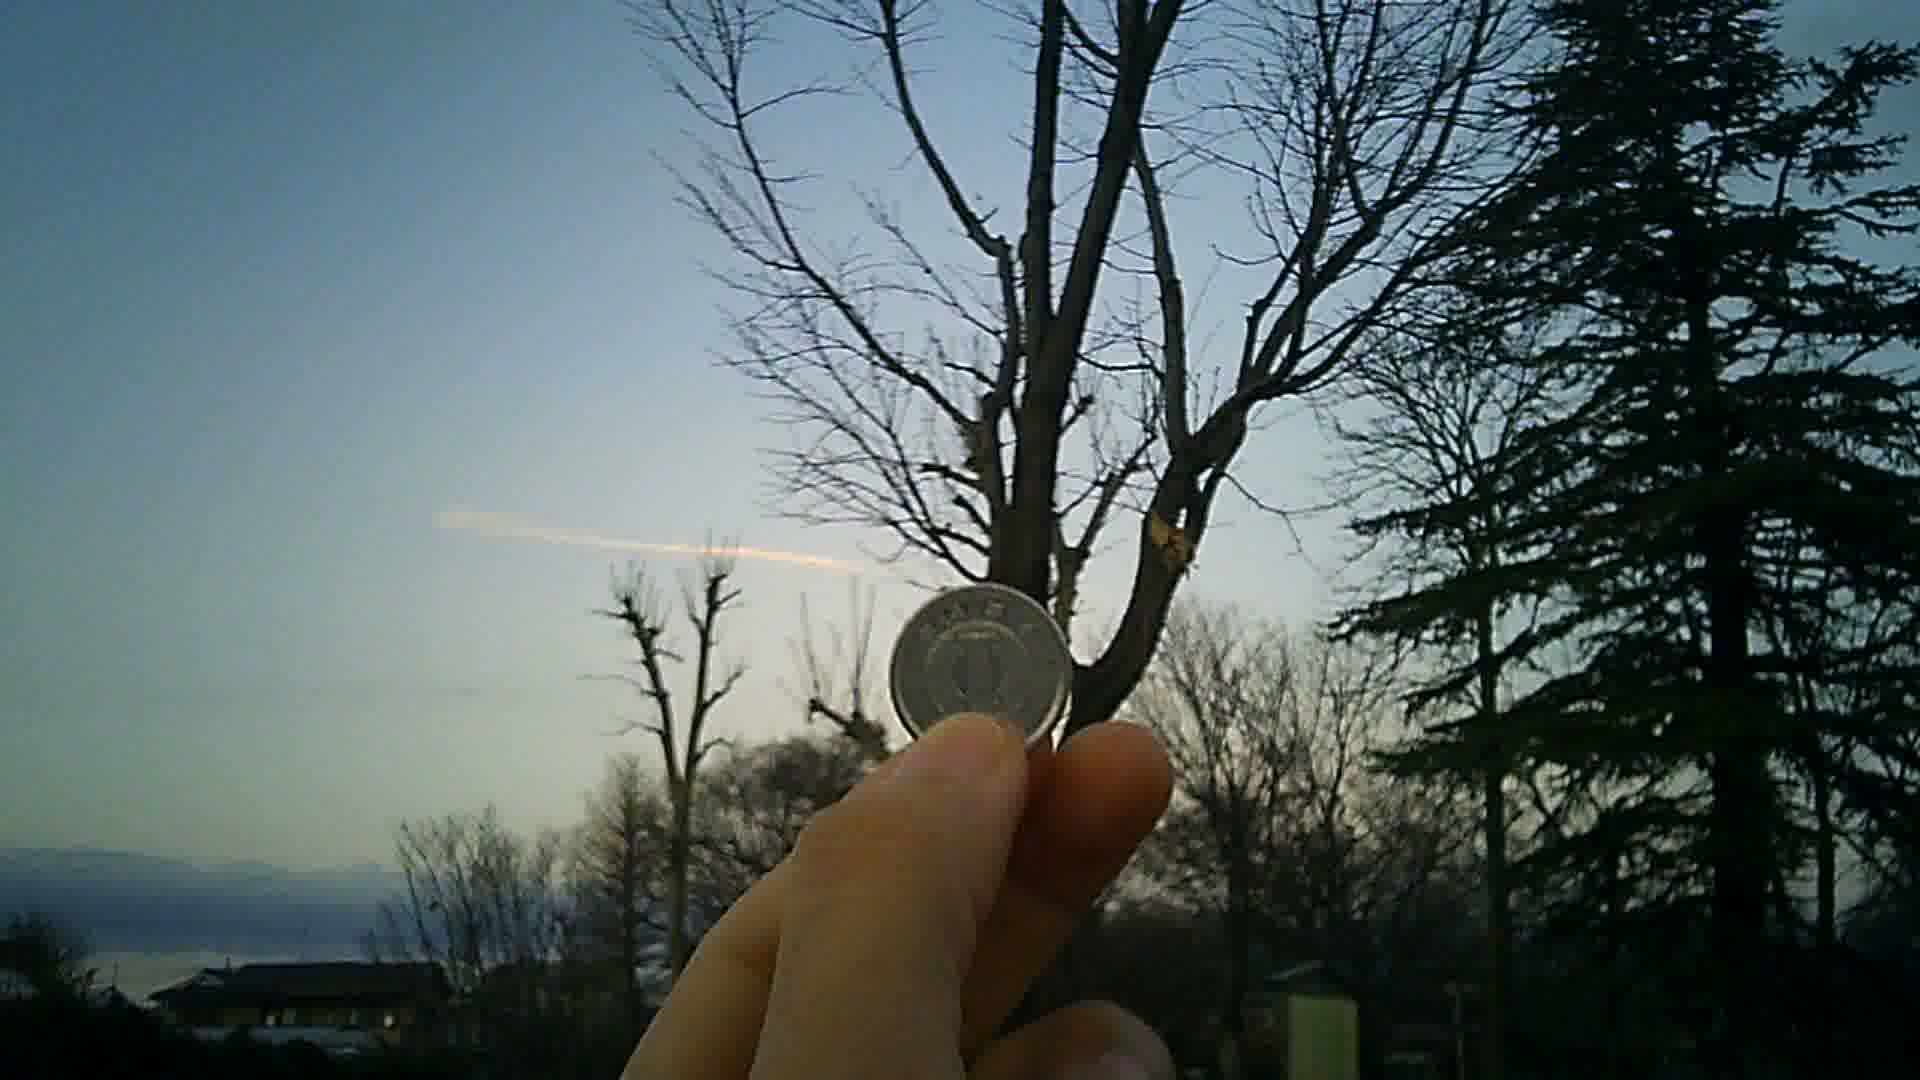1 Yen: (887, 576, 1080, 756)
